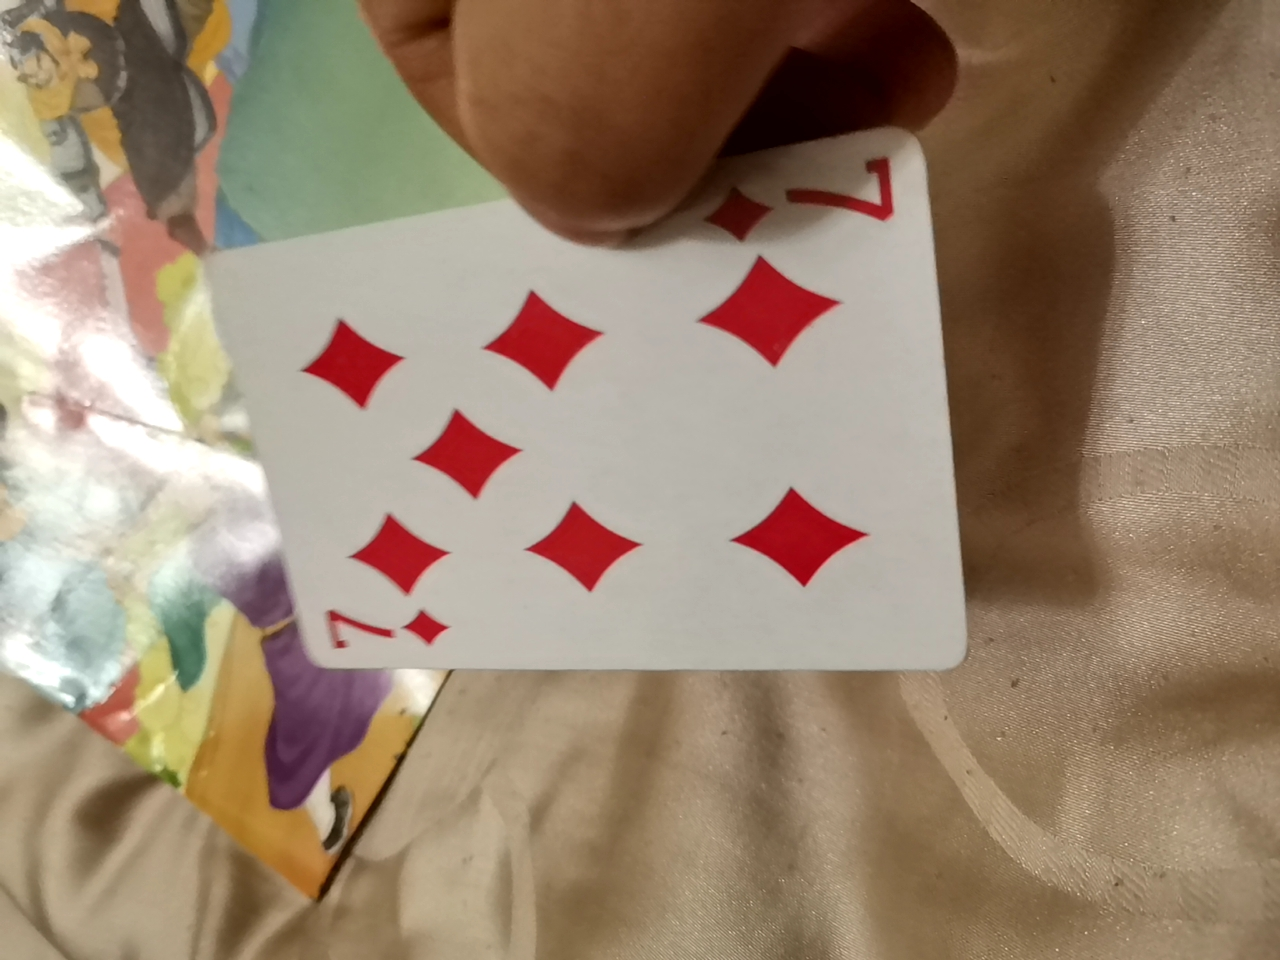fk 7: (285, 167, 986, 716)
